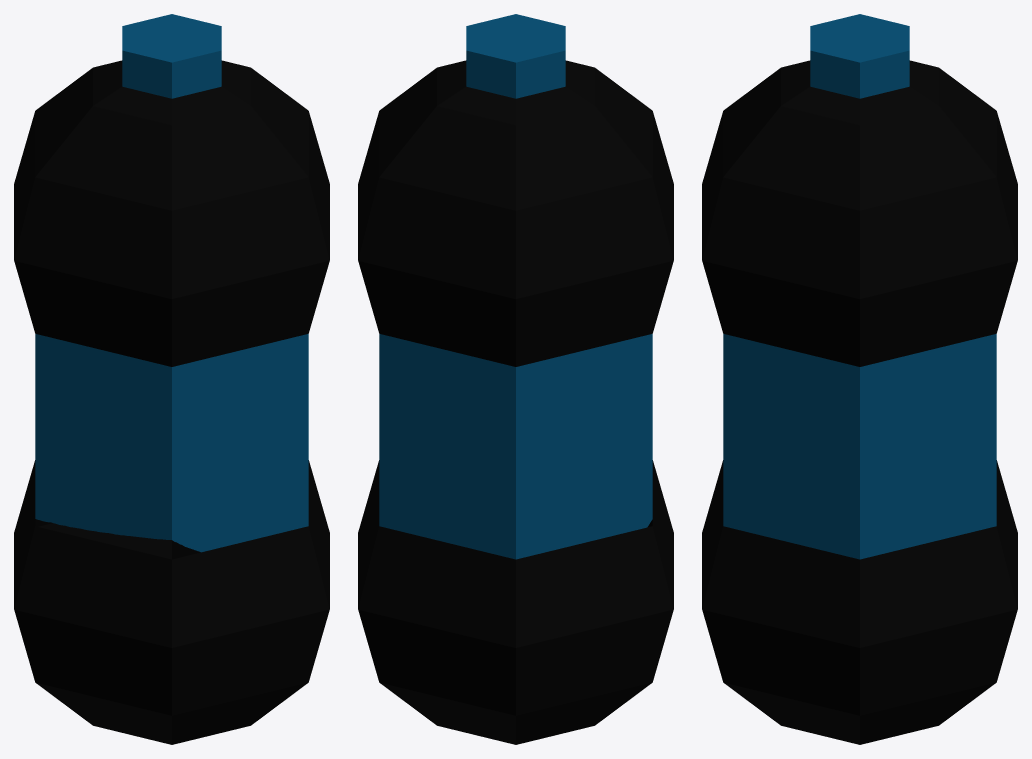
The model's file is pepsi.FBX.
3 renders of one model, left to right at view 1: azimuth 30°, elevation 25°; view 2: azimuth 150°, elevation 25°; view 3: azimuth 270°, elevation 25°, orthographic.
Parts seen in each view (by area): view 1: pepsi; view 2: pepsi; view 3: pepsi.
Boxes of the visible parts, box(x1,y1,x2,y2) form: pepsi: box(14, 14, 329, 744); pepsi: box(358, 14, 673, 744); pepsi: box(702, 14, 1017, 744).
Bounding box in the file's own units: 36.64 × 76.42 × 31.73.
